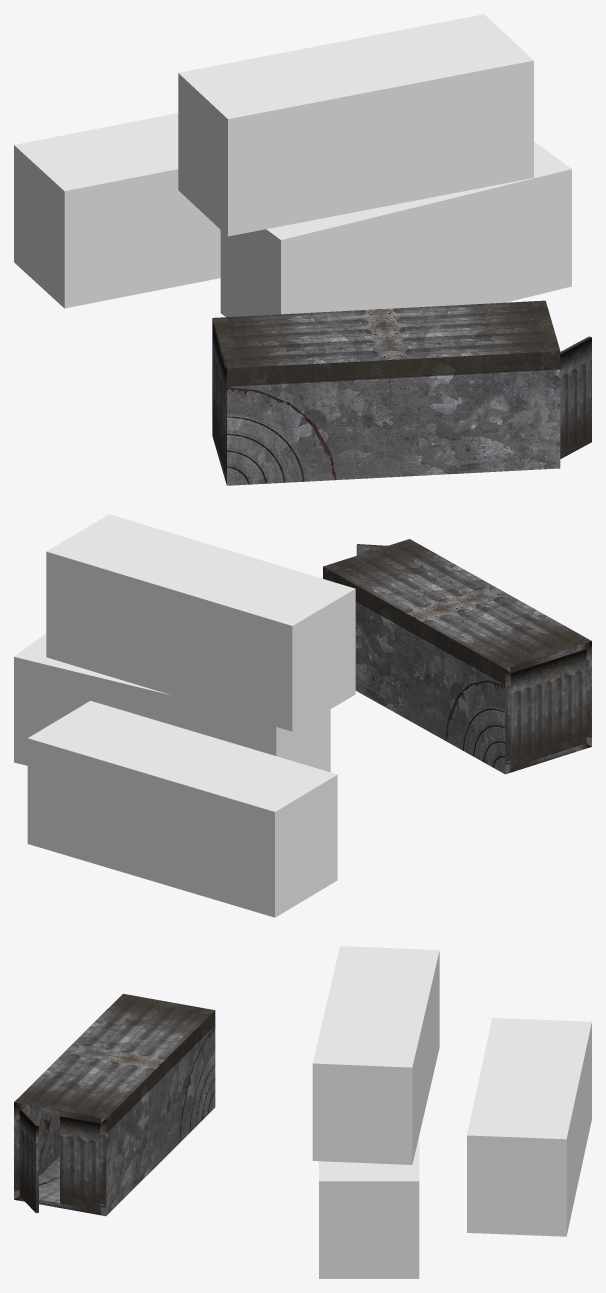
Rendered from Container4_Closed1.fbx.
3 renders of one model, top to bottom at view 1: azimuth 30°, elevation 25°; view 2: azimuth 150°, elevation 25°; view 3: azimuth 270°, elevation 25°, orthographic. The views are drawn at different scales.
Visible parts, largest first — view 1: Container4_Closed1; view 2: Container4_Closed1; view 3: Container4_Closed1.
Part boxes in pixels (x1,y1,x2,y2): Container4_Closed1: (14,14,591,485); Container4_Closed1: (14,514,591,917); Container4_Closed1: (14,946,591,1278).
Size of the model in its own units: 1066 by 1387 by 525.
